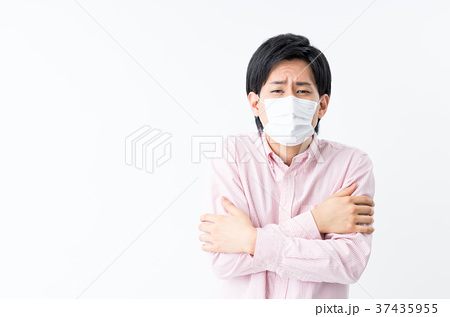mask: (264, 97, 323, 143)
